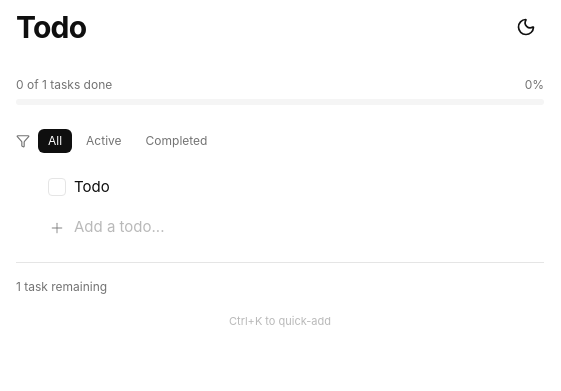
Test: Empty state › shows completed empty state when no todos are completed
The width and height of the screenshot is (561, 391).
Click the button "Completed".
click(177, 141)  # box [136,129,218,153]
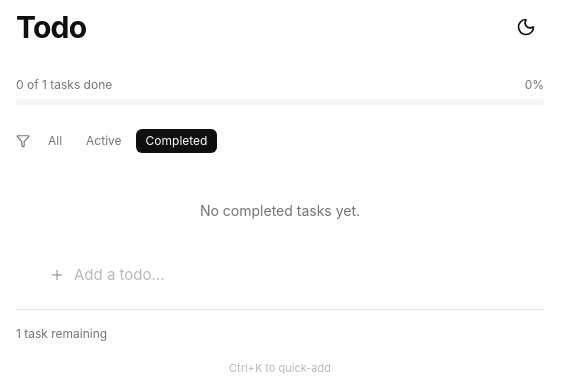
Result: the text "No completed tasks yet." is shown at [200,202,360,219]
